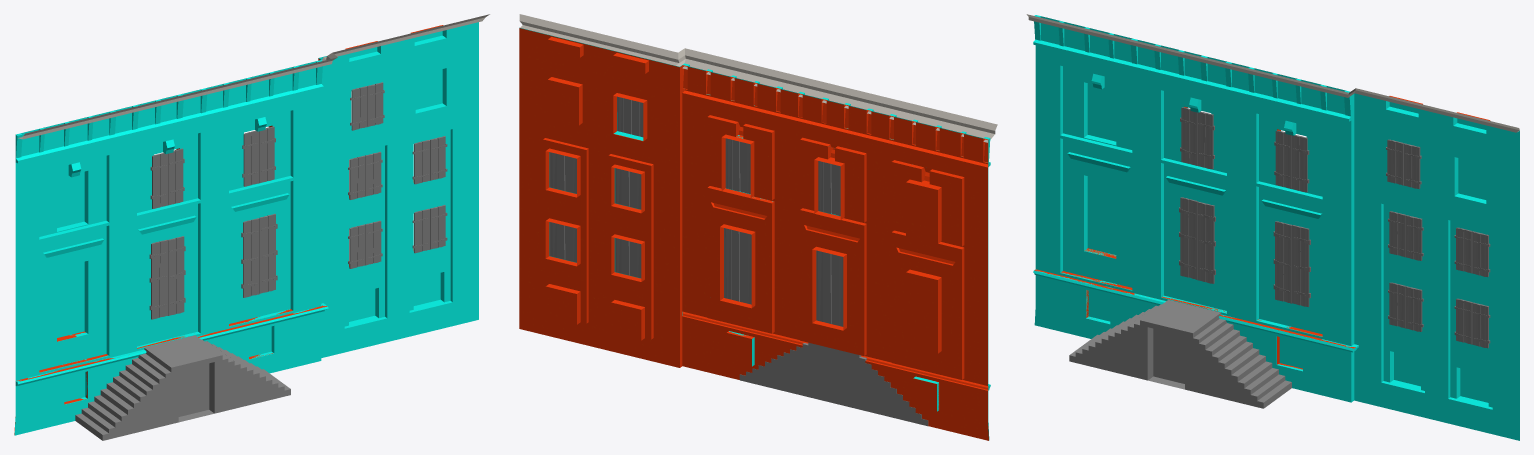
The model's file is FPWinsidenull.dae.
The picture shows the model from 3 angles, left to right: view 1: azimuth 30°, elevation 25°; view 2: azimuth 150°, elevation 25°; view 3: azimuth 330°, elevation 25°; orthographic projection. The views are drawn at different scales.
Visible parts, largest first — view 1: PLAASTER, STAIRS, ROOF, LUIK_1_L, LUIK_2_L, LUIK_1_R, LUIK_2_R, FACADE, LUIK_4_L, LUIK_3_L, LUIK_3_R, LUIK_4_R (+10 smaller); view 2: FACADE, ROOF, STAIRS, PLAASTER, LUIK_1_R, LUIK_2_R, LUIK_2_L, LUIK_1_L, LUIK_4_R, LUIK_3_R, LUIK_7_R, LUIK_9_R (+6 smaller); view 3: PLAASTER, STAIRS, ROOF, LUIK_2_L, LUIK_2_R, LUIK_1_R, FACADE, LUIK_1_L, LUIK_4_R, LUIK_3_R, LUIK_4_L, LUIK_3_L (+10 smaller).
Boxes of the visible parts, x1,y1,x2,y2 form: PLAASTER: (14,22,478,435); STAIRS: (75,335,290,440); ROOF: (18,14,489,139); LUIK_1_L: (241,218,259,297); LUIK_2_L: (149,239,167,319); LUIK_1_R: (259,213,277,293); LUIK_2_R: (168,236,185,315); FACADE: (14,25,443,434); LUIK_4_L: (242,130,259,186); LUIK_3_L: (150,153,167,208); LUIK_3_R: (168,148,184,205); LUIK_4_R: (259,126,275,182); FACADE: (519,28,988,440); ROOF: (519,14,997,142); STAIRS: (739,342,928,426); PLAASTER: (519,27,990,440); LUIK_1_R: (724,228,739,301); LUIK_2_R: (816,250,831,323); LUIK_2_L: (831,254,843,326); LUIK_1_L: (739,232,751,304); LUIK_4_R: (725,138,740,191); LUIK_3_R: (818,161,831,213); LUIK_7_R: (549,152,565,190); LUIK_9_R: (549,222,565,259); PLAASTER: (1033,15,1519,440); STAIRS: (1069,299,1291,408); ROOF: (1026,14,1519,132); LUIK_2_L: (1179,197,1197,279); LUIK_2_R: (1197,201,1215,283); LUIK_1_R: (1292,225,1310,306); FACADE: (1034,96,1490,369); LUIK_1_L: (1273,221,1291,303); LUIK_4_R: (1291,135,1309,192); LUIK_3_R: (1197,111,1214,169); LUIK_4_L: (1274,130,1291,188); LUIK_3_L: (1180,107,1197,165).
Size of the model in its own units: 187850 by 117305 by 24755.
